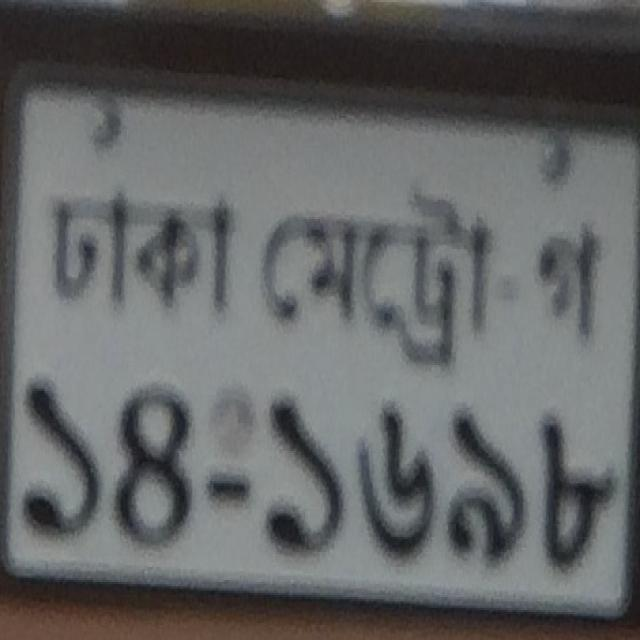numberplate: (1, 4, 638, 622)
